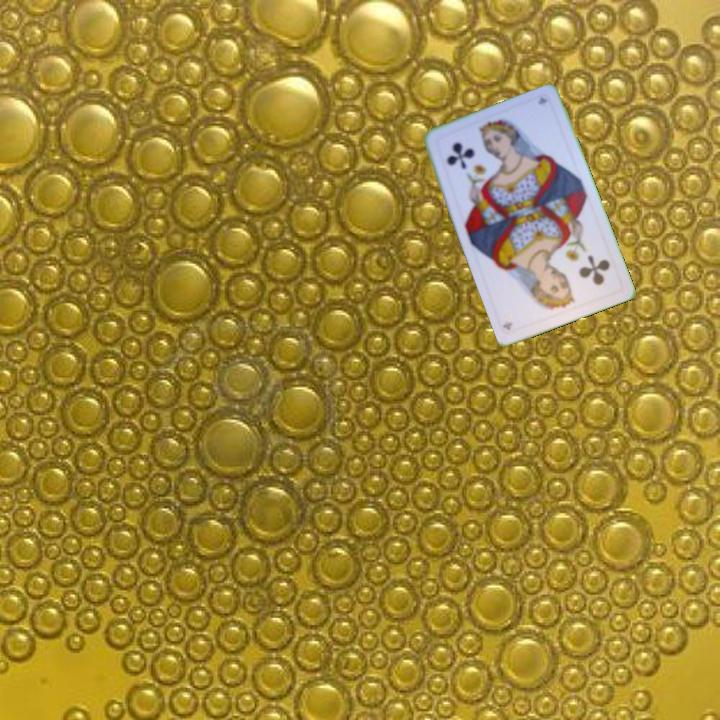c_q.png: (543, 237, 624, 314), (431, 116, 513, 192)
